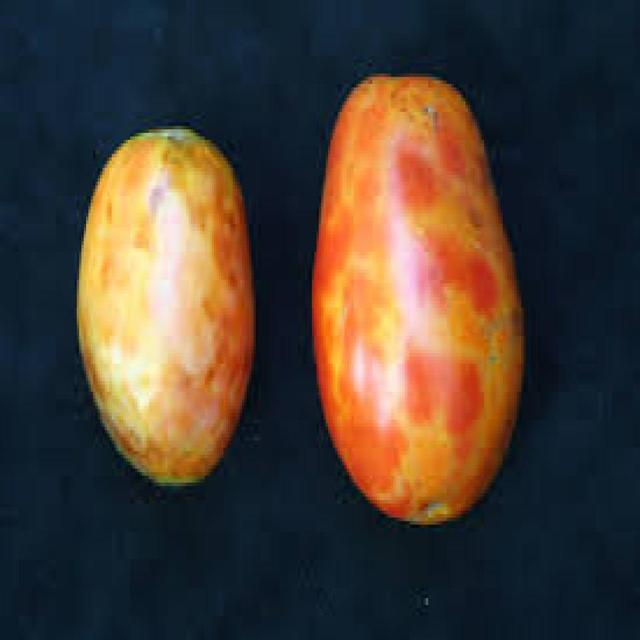Spotted wilt Virus Fruit: (53, 177, 214, 277)
